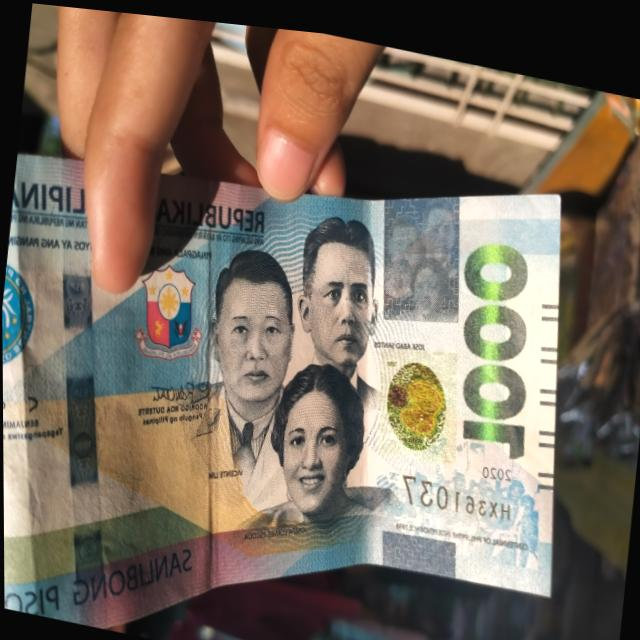concealed_value: (384, 186, 459, 311)
optically_variable_device: (380, 334, 457, 450)
security_thread: (55, 150, 104, 622)
value: (439, 219, 549, 464)
